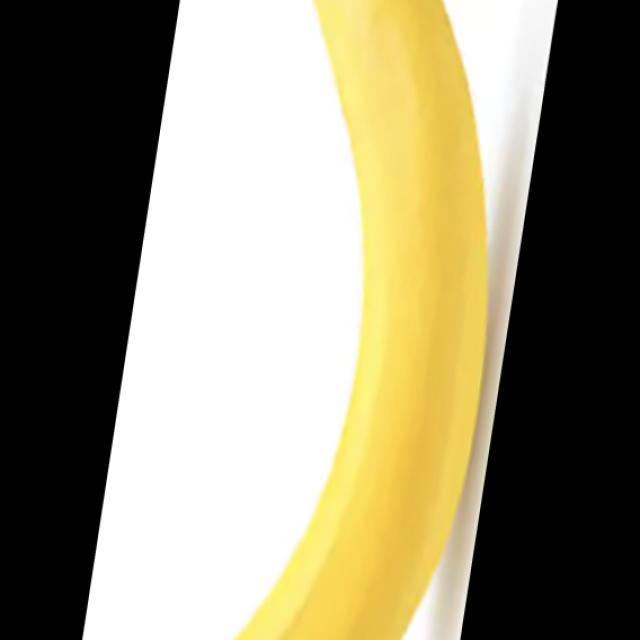Banana: (232, 4, 490, 640)
